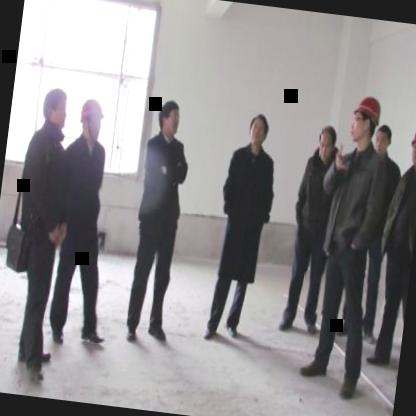head: (38, 82, 72, 134), (154, 96, 186, 141), (244, 110, 274, 154), (314, 122, 340, 164), (372, 119, 396, 156)
helmet: (346, 92, 383, 145), (76, 93, 108, 146), (406, 120, 416, 169)
